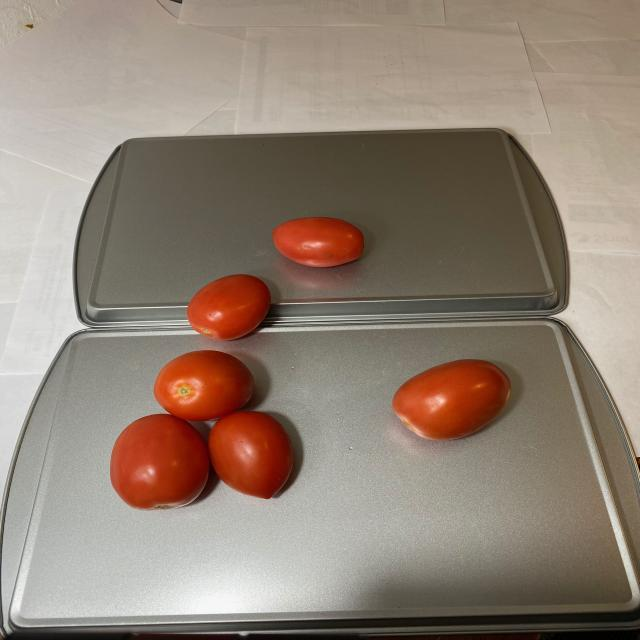tomato: (112, 347, 299, 516), (185, 214, 368, 344), (392, 357, 520, 442)
